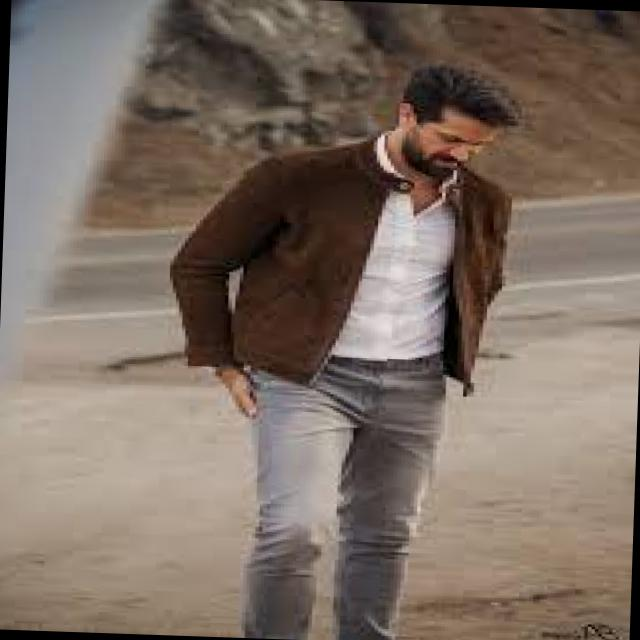Jacket: (192, 126, 522, 421)
